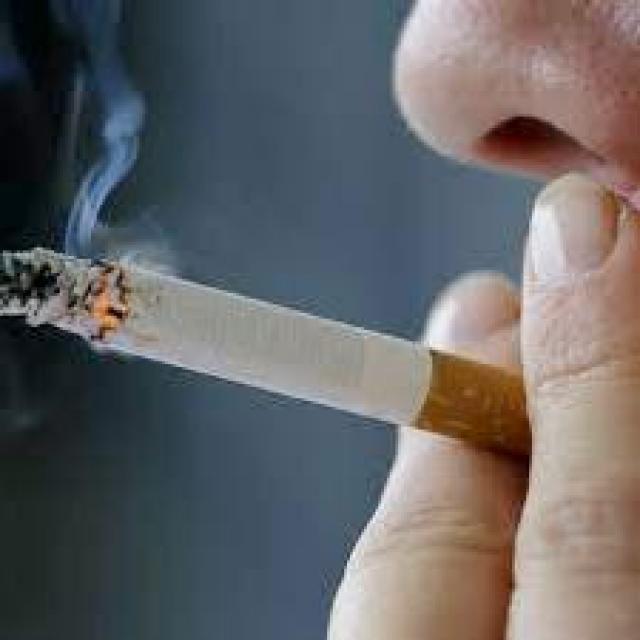cigarette: (0, 245, 532, 458)
